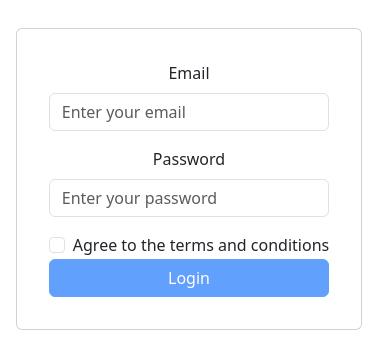
Register Page › Error Messages › email throws error if user enters invalid input
This screenshot has width=380, height=360.
Type "emreyucel97@outlook." into the field with test id "email-input" at coordinates (189, 112), box [49, 93, 329, 131]
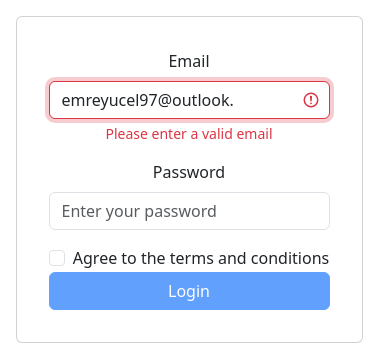
Expected: the text "Please enter a valid email" is shown, [106, 124, 272, 142]
